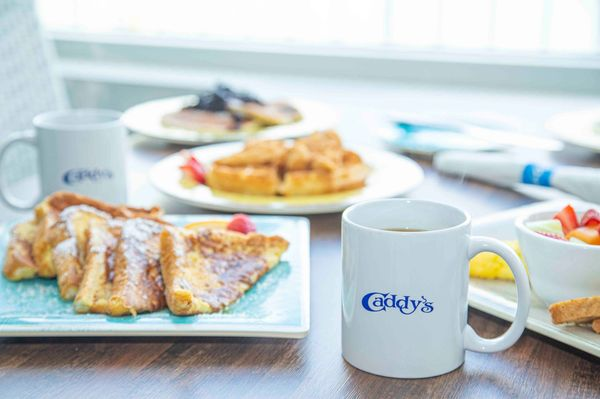pizza: (0, 107, 131, 213)
sushi: (513, 203, 600, 325)
